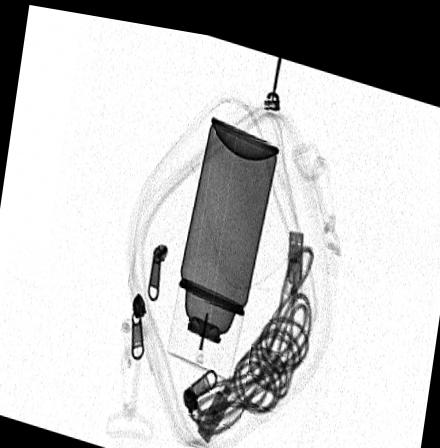Sprayer: (164, 110, 278, 375)
